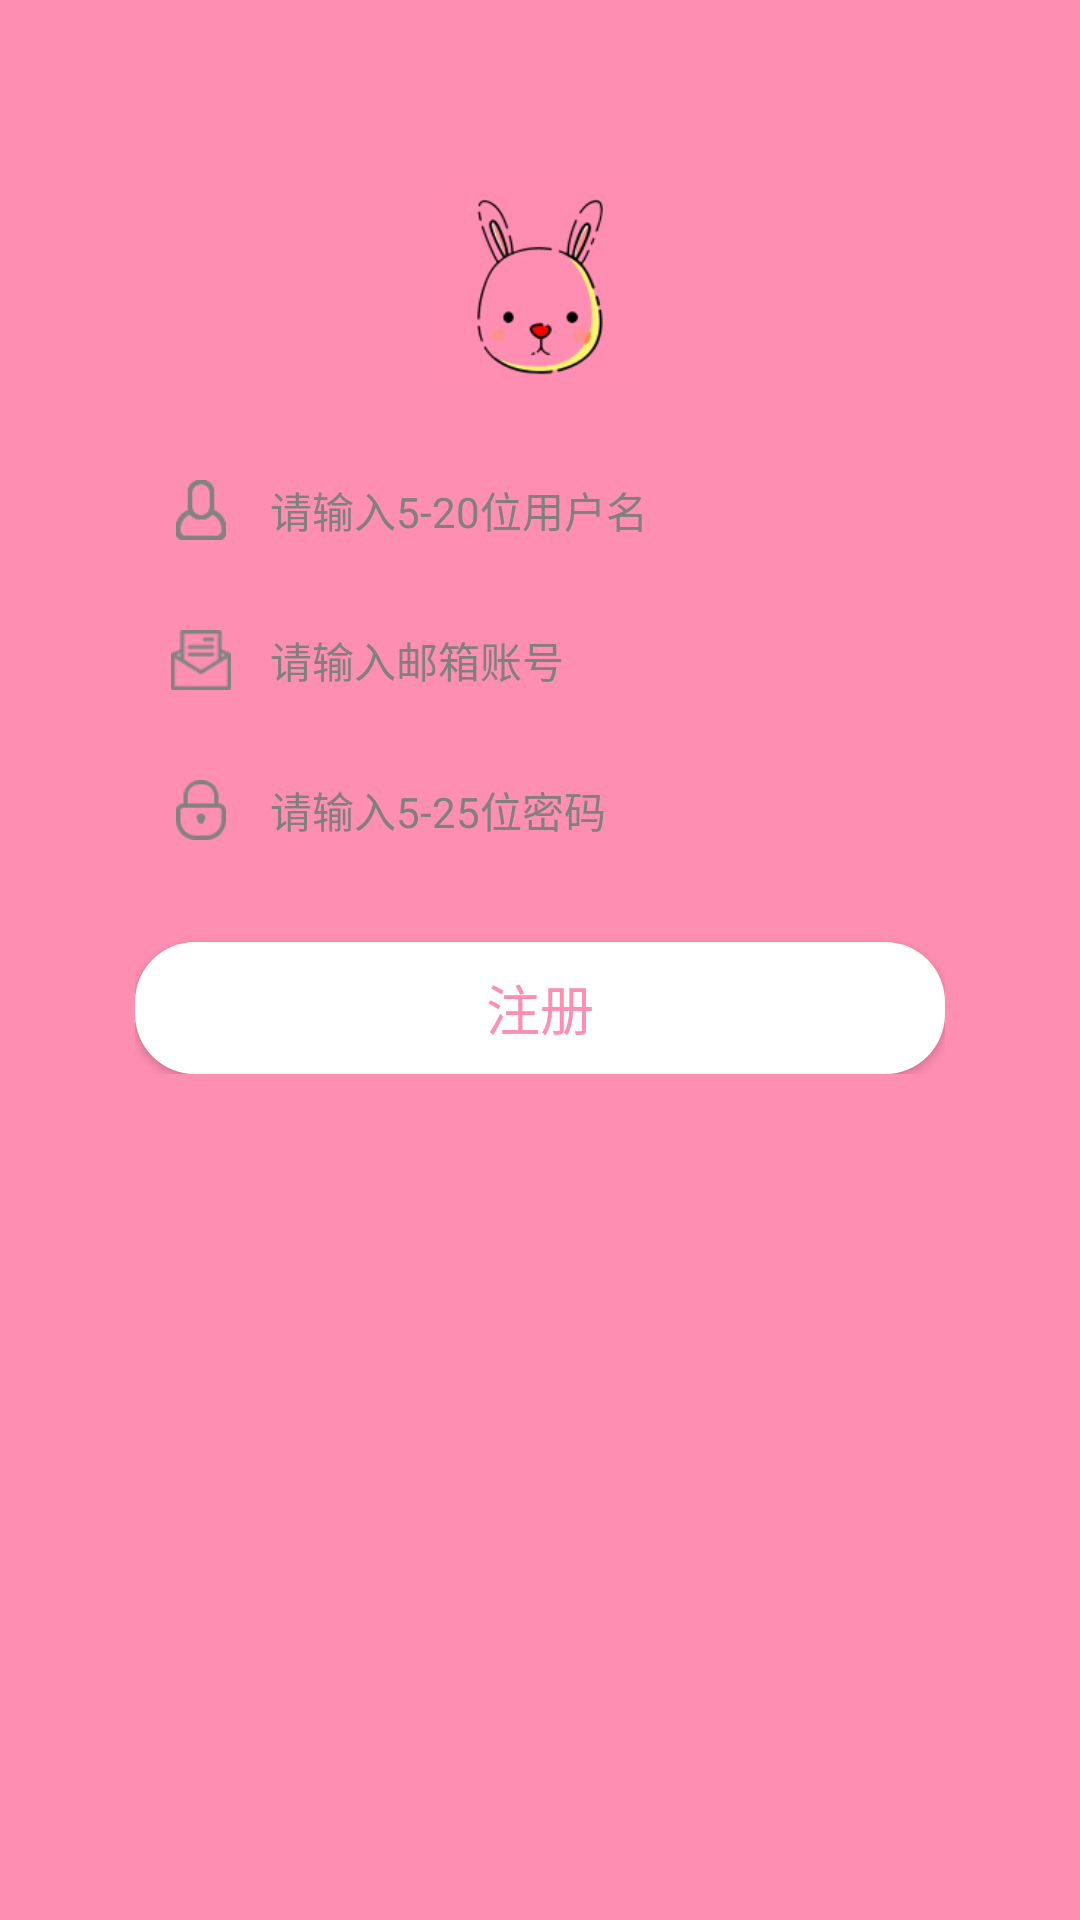

Locate icon controls on the screen. Image size 1080 x 1920, boxes as (x1, y1, x2, y2).
login account number: (176, 480, 226, 540)
login email: (171, 630, 231, 690)
login password: (176, 780, 226, 840)
